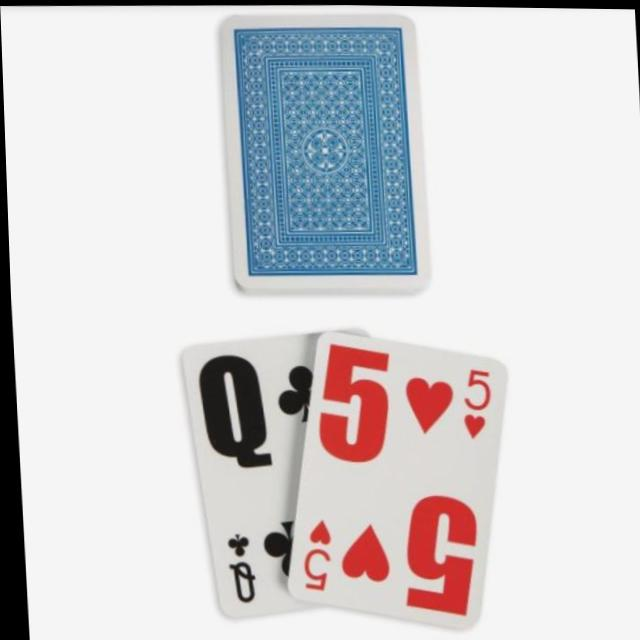Card-5: (286, 333, 501, 624)
Card-Q: (180, 325, 357, 612)
